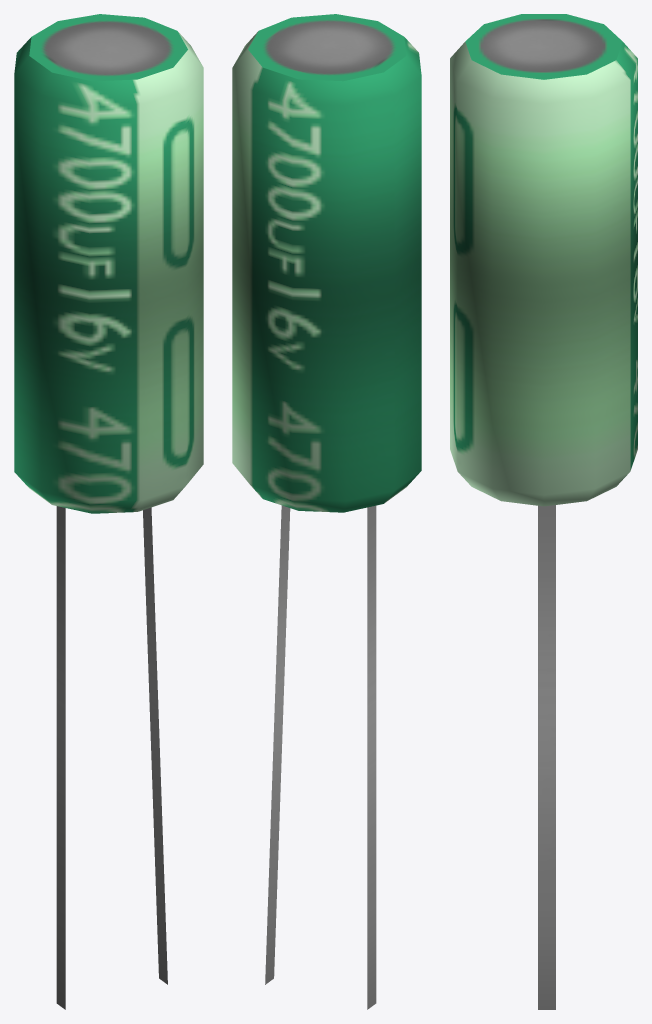
The model's file is green_capacitor.FBX.
3 views of the same model, side by side, from view 1: azimuth 30°, elevation 25°; view 2: azimuth 150°, elevation 25°; view 3: azimuth 270°, elevation 25° (orthographic).
Parts seen in each view (by area): view 1: green_capacitor; view 2: green_capacitor; view 3: green_capacitor.
Boxes of the visible parts, <box> form: green_capacitor: <box>14,14,203,1009</box>; green_capacitor: <box>232,14,421,1009</box>; green_capacitor: <box>450,14,637,1009</box>.
Bounding box in the file's own units: 4.42 × 24.55 × 4.47.
1 material, 1 textured.
